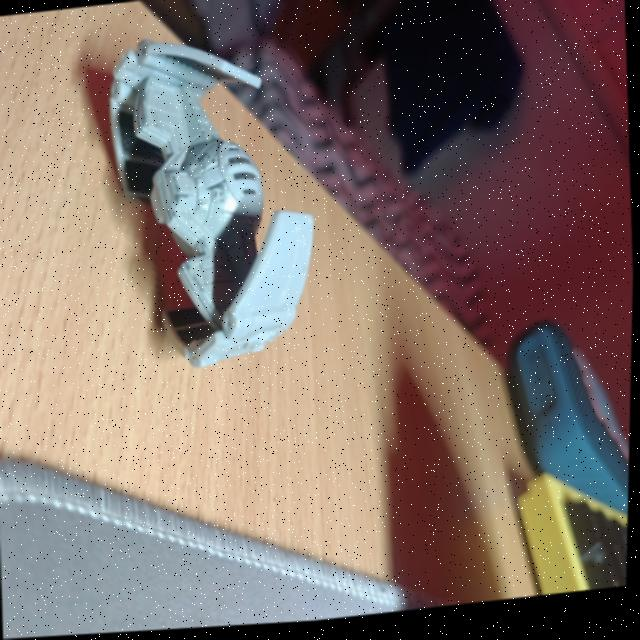tie fighter: (110, 42, 312, 369), (223, 263, 228, 269)
